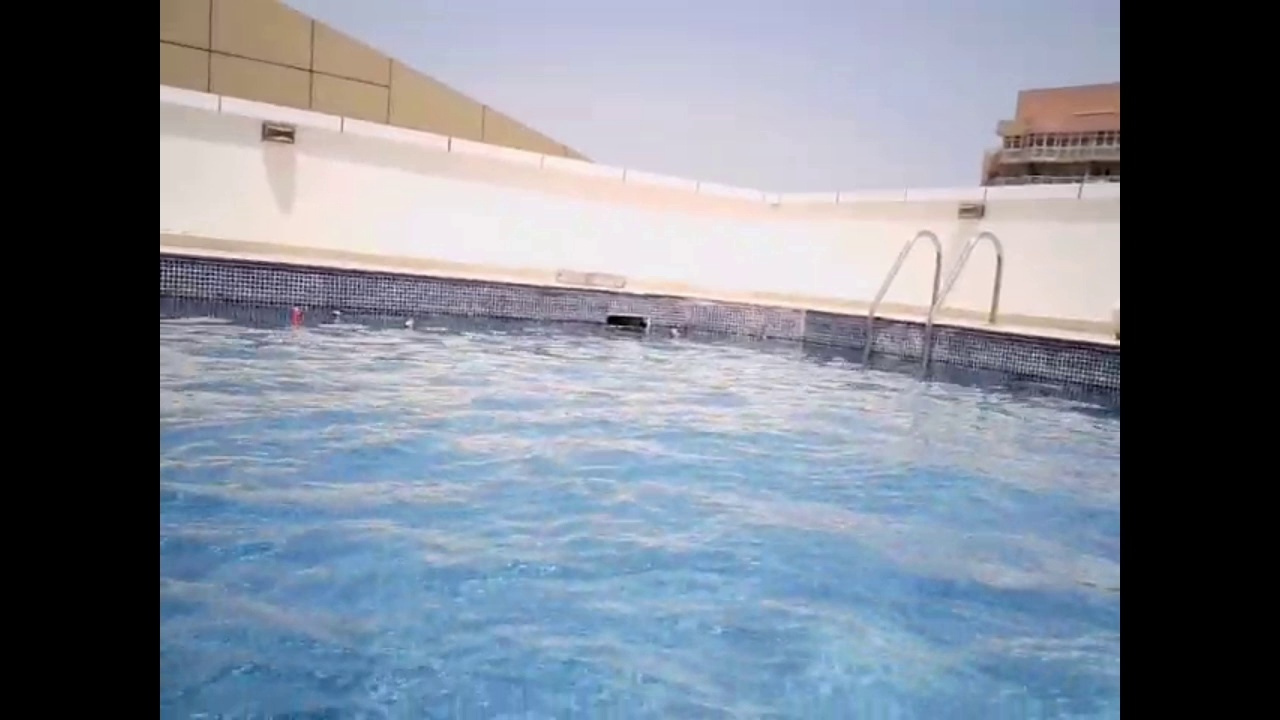debris: (286, 302, 306, 327), (399, 314, 417, 330), (324, 306, 345, 319), (667, 324, 679, 341)
